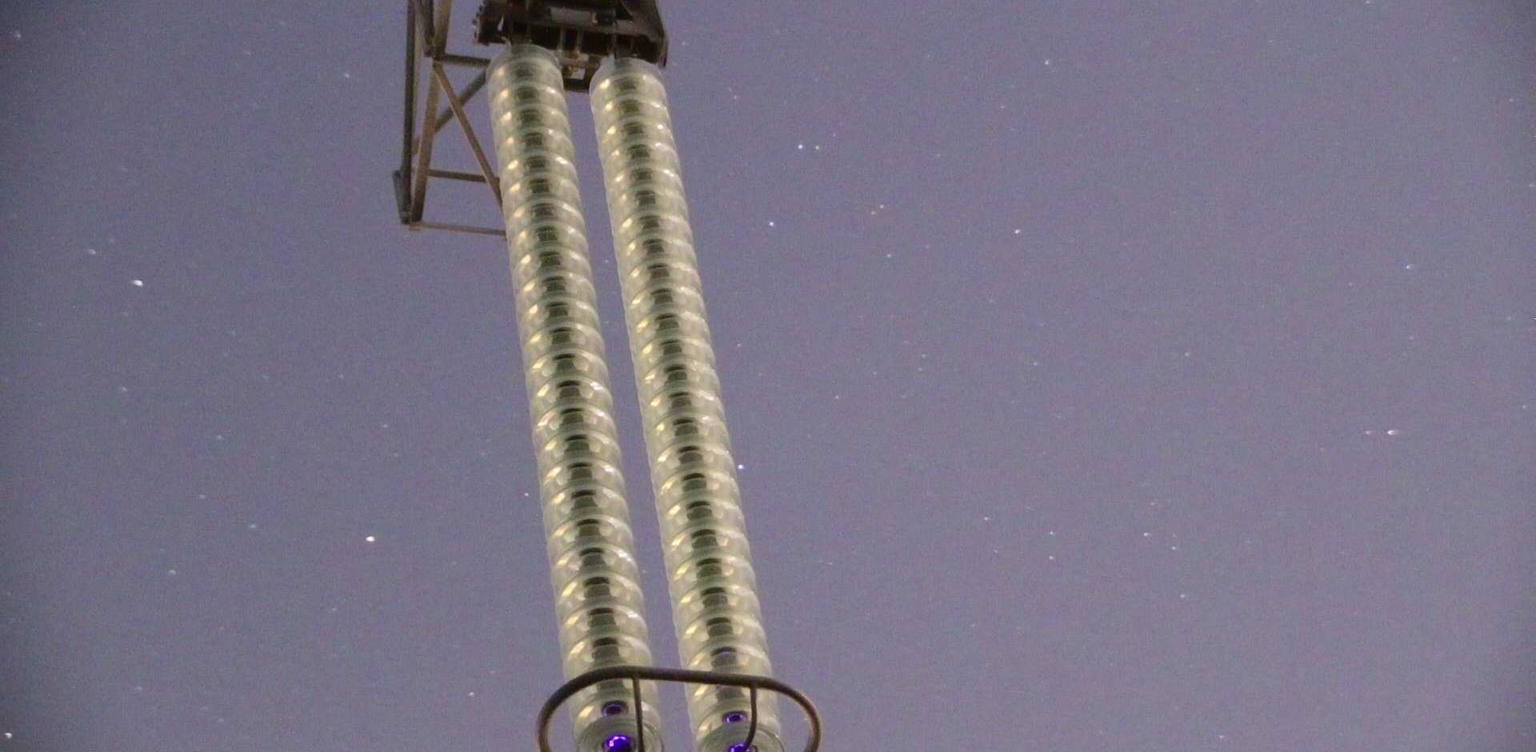绝缘子污闪: (606, 732, 630, 748), (602, 702, 626, 717), (725, 712, 745, 724), (729, 742, 750, 752), (718, 650, 730, 658)
